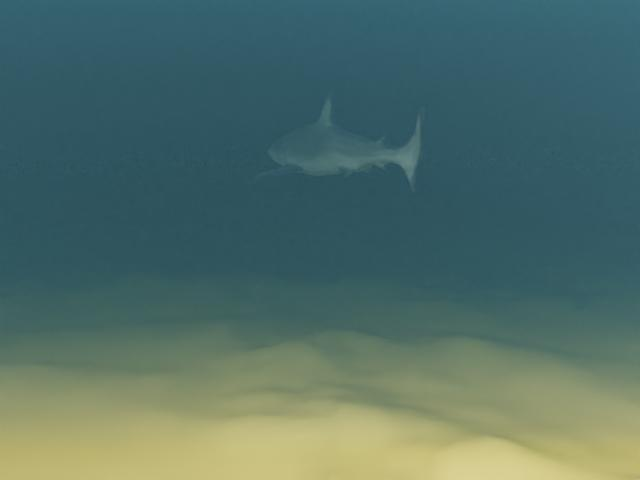Carribean Shark.001: (248, 92, 425, 191)
